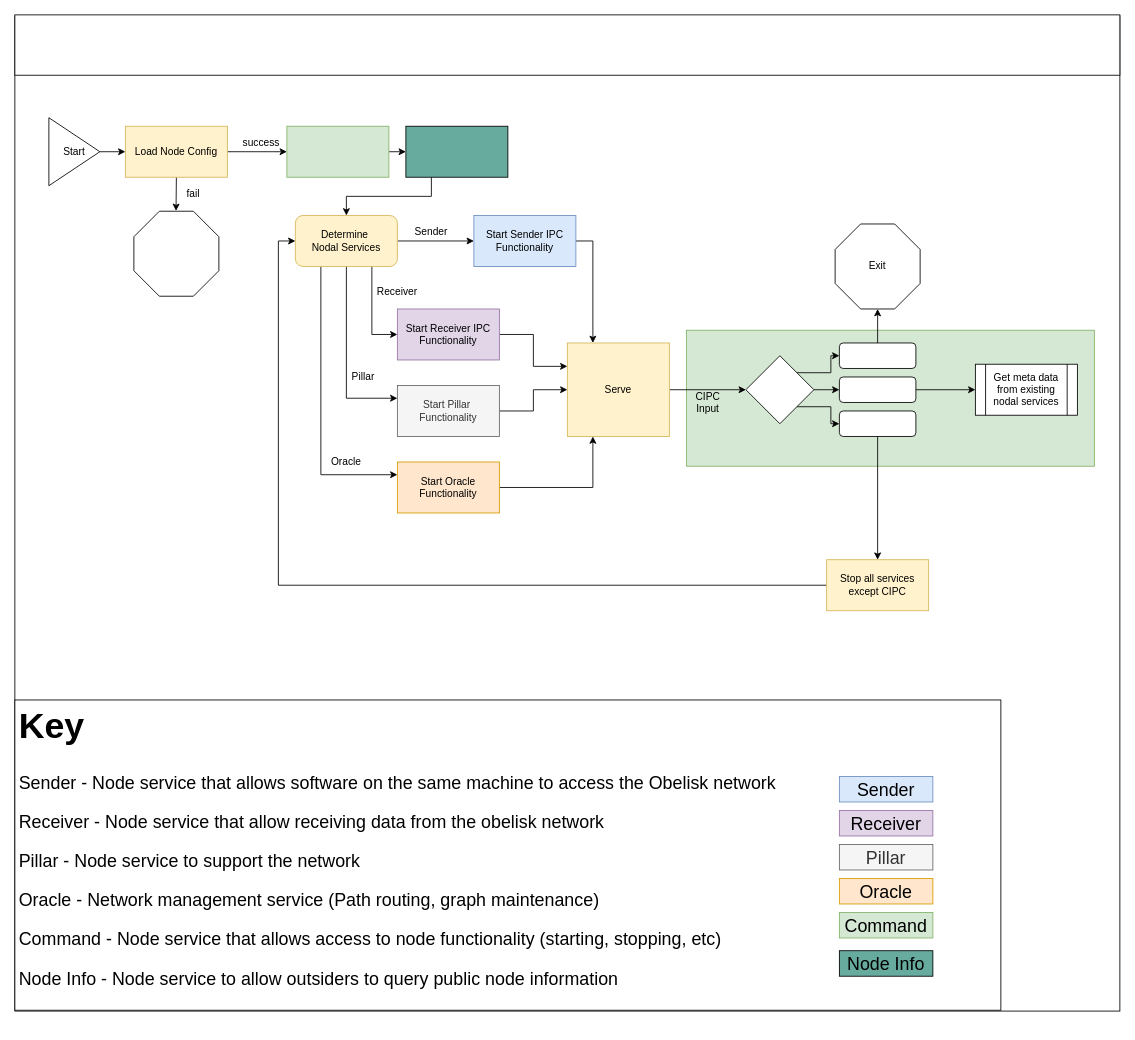
This 1135x1040 diagram has some shape labels left out. Here are the shapes that lost their labels. From the top down, the box of each, then its label:
(14, 14, 1120, 75): Node Software Operation Overview
(286, 125, 389, 177): Start Command IPC Functionality
(405, 125, 508, 177): Start Node Information Service
(133, 210, 219, 296): Exit Failure Run Config
(839, 342, 916, 368): Shutdown
(745, 355, 814, 424): Process Command
(839, 376, 916, 402): Get Info
(839, 410, 916, 436): Restart
